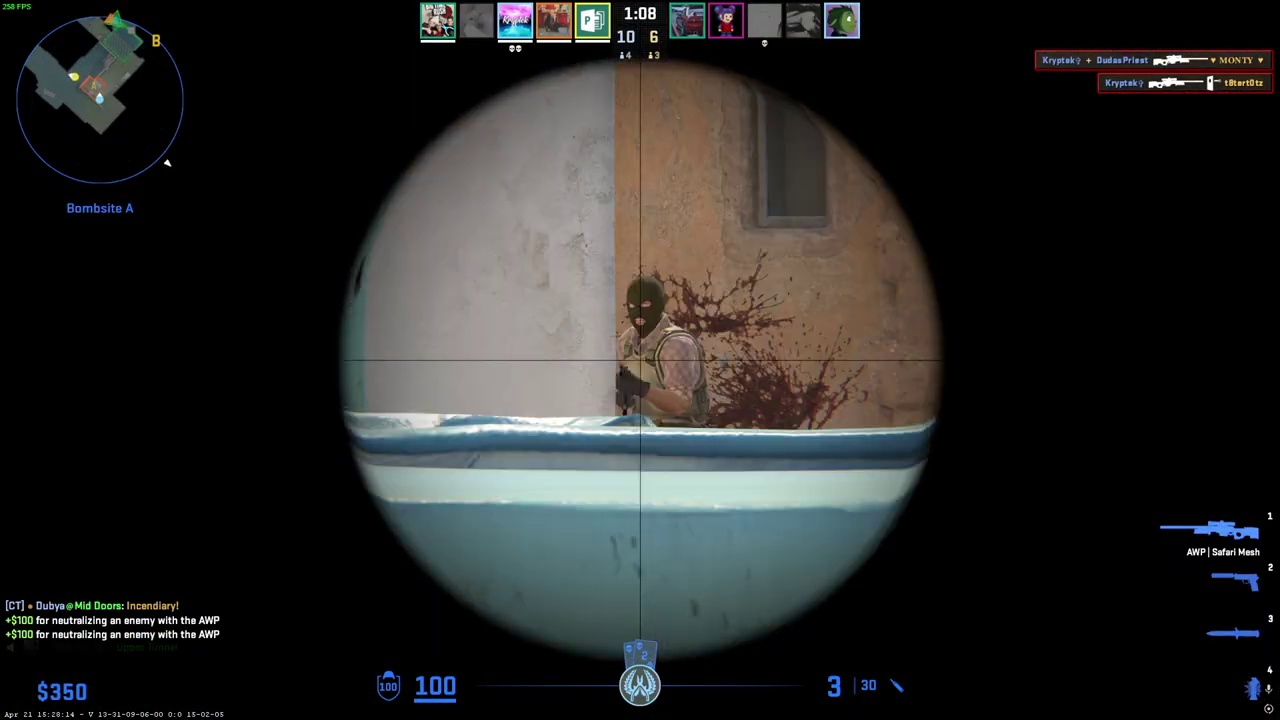Terrorist: (616, 277, 709, 426)
